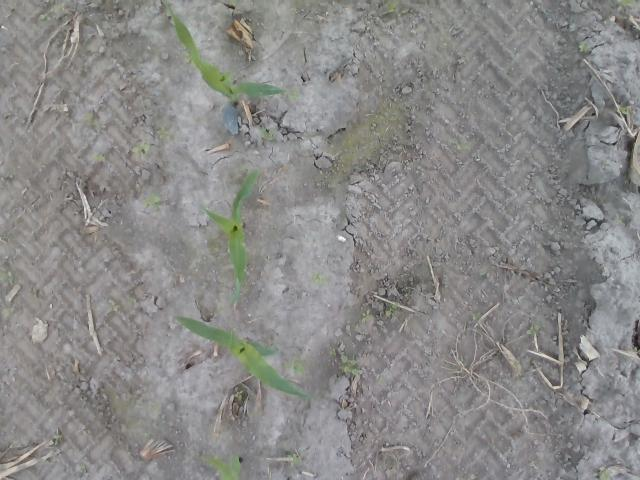Maize: (174, 316, 324, 404), (162, 1, 288, 103), (200, 170, 258, 306), (198, 454, 244, 478)
Weeds: (284, 354, 308, 378), (338, 356, 363, 378), (40, 1, 66, 22), (382, 0, 410, 15), (182, 50, 200, 70), (130, 140, 150, 158), (382, 303, 400, 319), (312, 271, 328, 288), (88, 110, 100, 132), (616, 0, 639, 11), (260, 125, 278, 139), (144, 196, 162, 210), (456, 136, 470, 154), (88, 154, 108, 166), (456, 354, 470, 371), (288, 450, 300, 467), (28, 286, 48, 296), (595, 466, 609, 480), (527, 323, 541, 337), (479, 262, 492, 276), (107, 300, 120, 313), (52, 428, 62, 444), (576, 42, 590, 52), (614, 213, 625, 225), (0, 271, 11, 283), (618, 105, 630, 116), (438, 35, 448, 48), (361, 309, 371, 322), (156, 128, 170, 137), (124, 296, 138, 304), (0, 308, 11, 318), (285, 90, 298, 98), (234, 388, 244, 396), (472, 312, 482, 320), (377, 377, 388, 384), (312, 237, 318, 245), (602, 159, 610, 164)
